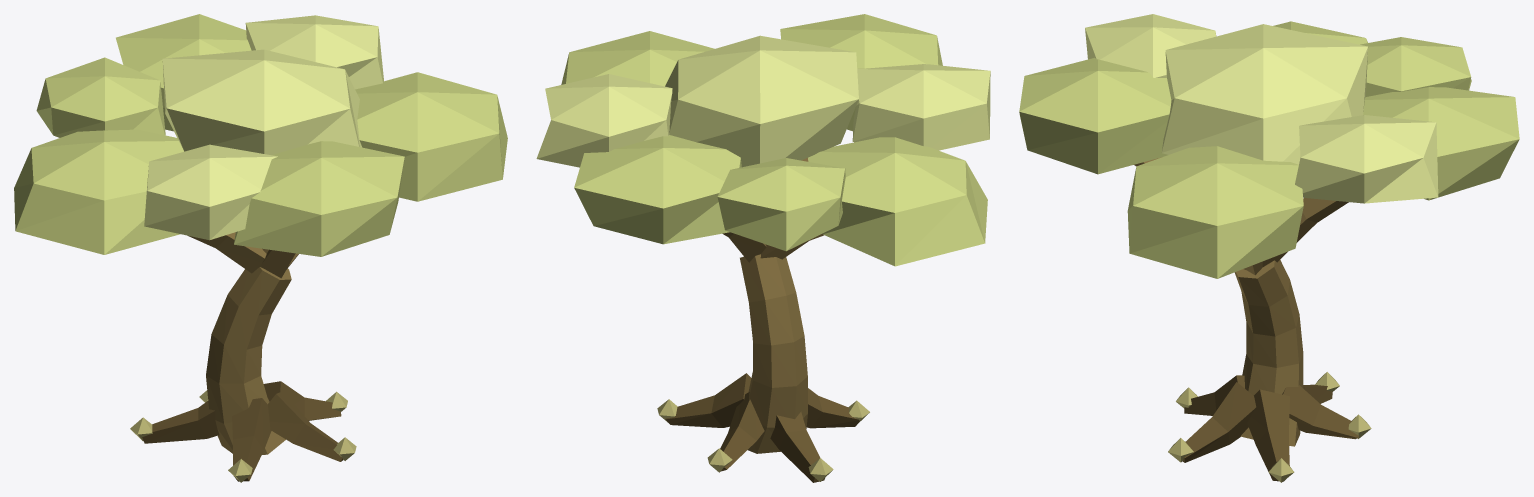
File: tree_archean_a.obj
The picture shows the model from 3 angles, left to right: view 1: azimuth 30°, elevation 25°; view 2: azimuth 150°, elevation 25°; view 3: azimuth 270°, elevation 25°; orthographic projection. The views are drawn at different scales.
Parts seen in each view (by area): view 1: tree_archean_a_25, tree_archean_a_21, tree_archean_a_24, tree_archean_a_22, tree_archean_a_26, tree_archean_a_10, tree_archean_a_28, tree_archean_a_27, tree_archean_a_23, tree_archean_a_8, tree_archean_a_6, tree_archean_a_4 (+3 smaller); view 2: tree_archean_a_25, tree_archean_a_21, tree_archean_a_23, tree_archean_a_26, tree_archean_a_28, tree_archean_a_10, tree_archean_a_27, tree_archean_a_24, tree_archean_a_22, tree_archean_a_0, tree_archean_a_4, tree_archean_a_2 (+2 smaller); view 3: tree_archean_a_25, tree_archean_a_22, tree_archean_a_24, tree_archean_a_27, tree_archean_a_23, tree_archean_a_10, tree_archean_a_28, tree_archean_a_26, tree_archean_a_8, tree_archean_a_0, tree_archean_a_2, tree_archean_a_15 (+2 smaller).
Boxes of the visible parts, x1,y1,x2,y2 form: tree_archean_a_25: (162, 49, 362, 154); tree_archean_a_21: (14, 129, 183, 254); tree_archean_a_24: (234, 141, 404, 256); tree_archean_a_22: (355, 72, 507, 201); tree_archean_a_26: (144, 144, 277, 240); tree_archean_a_10: (206, 267, 291, 454); tree_archean_a_28: (36, 57, 165, 137); tree_archean_a_27: (245, 15, 383, 89); tree_archean_a_23: (116, 14, 251, 131); tree_archean_a_8: (268, 392, 343, 461); tree_archean_a_6: (232, 398, 271, 481); tree_archean_a_4: (142, 401, 219, 443); tree_archean_a_25: (665, 35, 858, 167); tree_archean_a_21: (808, 137, 987, 266); tree_archean_a_23: (574, 135, 741, 244); tree_archean_a_26: (852, 64, 990, 150); tree_archean_a_28: (717, 158, 845, 251); tree_archean_a_10: (740, 254, 807, 453); tree_archean_a_27: (536, 74, 672, 167); tree_archean_a_24: (780, 14, 942, 131); tree_archean_a_22: (561, 31, 714, 86); tree_archean_a_0: (665, 373, 751, 427); tree_archean_a_4: (770, 411, 824, 482); tree_archean_a_2: (720, 392, 764, 471); tree_archean_a_25: (1161, 24, 1368, 164); tree_archean_a_22: (1127, 146, 1303, 278); tree_archean_a_24: (1019, 57, 1171, 174); tree_archean_a_27: (1295, 115, 1438, 203); tree_archean_a_23: (1363, 87, 1519, 200); tree_archean_a_10: (1234, 260, 1303, 446); tree_archean_a_28: (1360, 37, 1471, 96); tree_archean_a_26: (1085, 14, 1216, 77); tree_archean_a_8: (1182, 382, 1256, 462); tree_archean_a_0: (1247, 389, 1289, 481); tree_archean_a_2: (1282, 385, 1358, 439); tree_archean_a_15: (1262, 198, 1348, 266).
Size of the model in its own units: 1.18 by 0.946 by 1.09.
